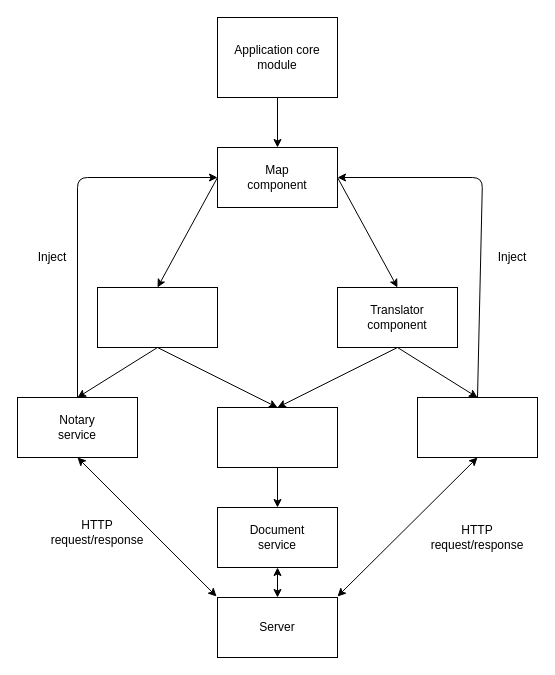
Some shapes in this 555 by 675 pixel diagram are drawn without their labels. The box of each missing label's shape, as (x1, y1, x2, y2) in pixels:
Document component: (216, 406, 338, 468)
Notary component: (96, 286, 218, 348)
Translator service: (416, 396, 538, 458)
